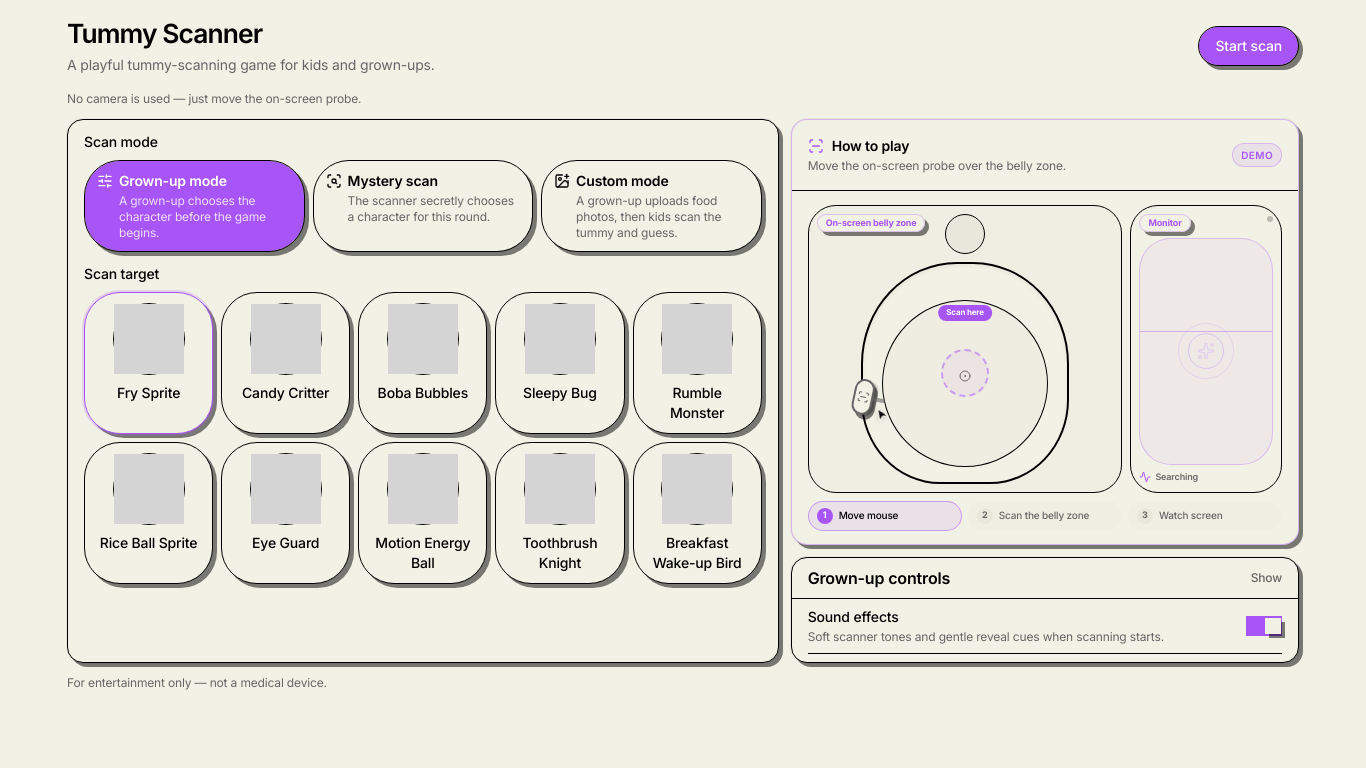
Scenario: DuduScannerApp controls › uses space as a director override during initialization
The width and height of the screenshot is (1366, 768).
Click the button "Start scan".
click(1249, 46)  # box [1198,26,1299,66]
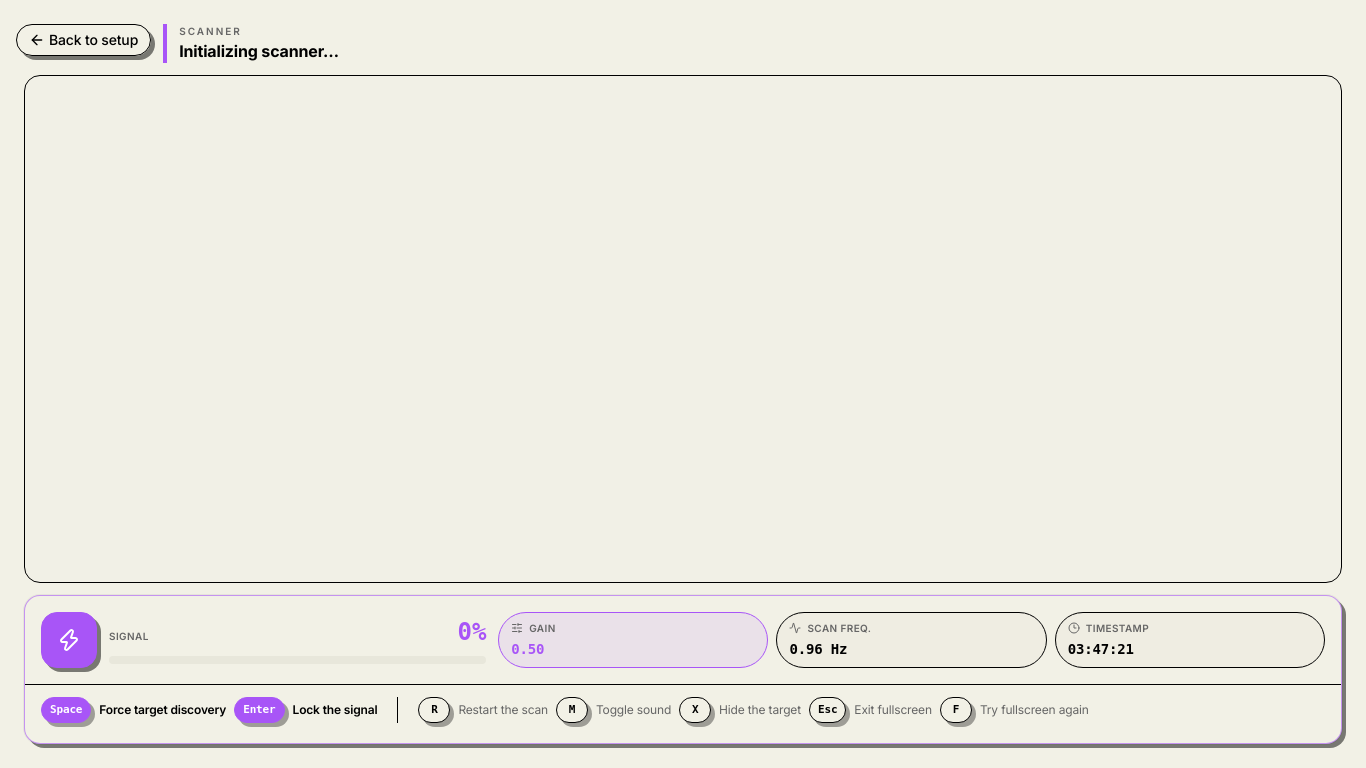
Expected: the element with test id "dudu-scanner-scan-view" is shown
Press Space
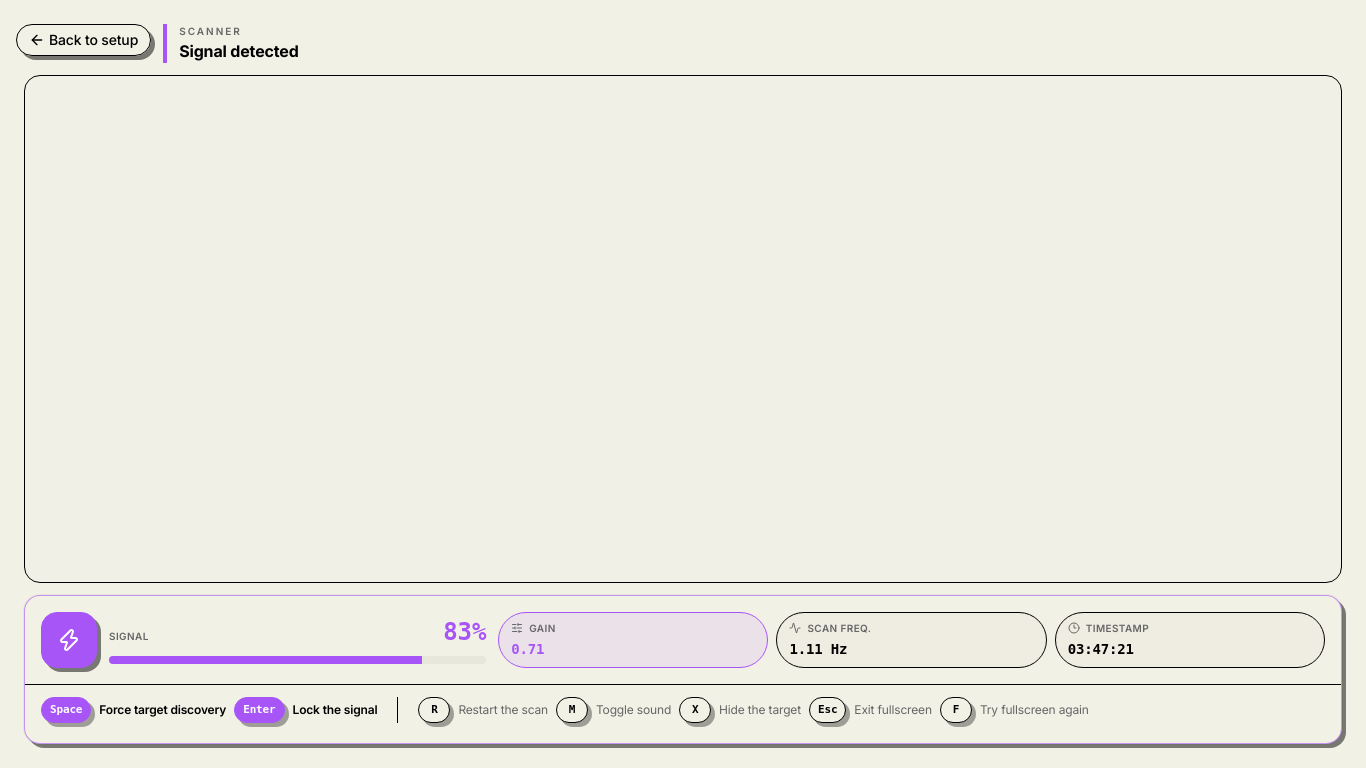
Expected: the text with test id "dudu-scanner-status" reads "Signal detected", [179,41,299,61]
